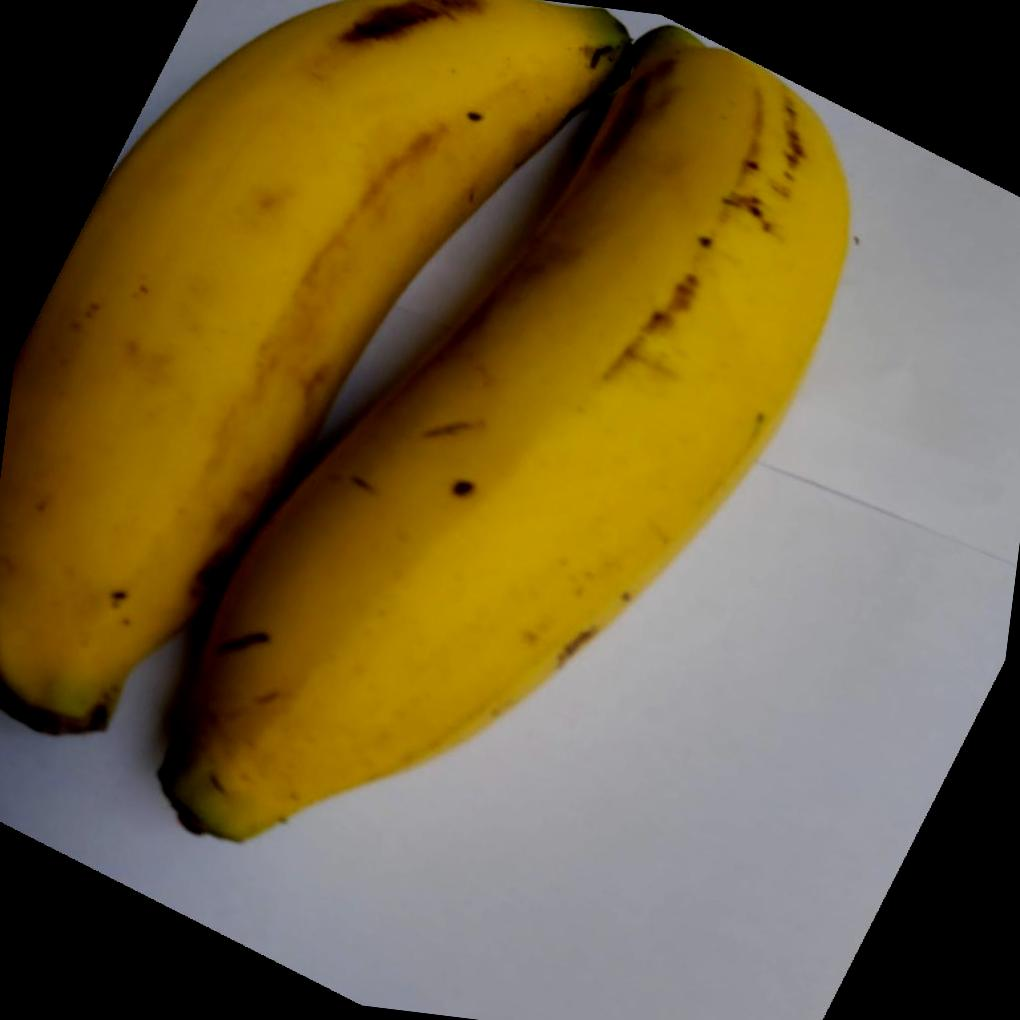Banana Ripe: (166, 0, 983, 983), (0, 0, 636, 846)
